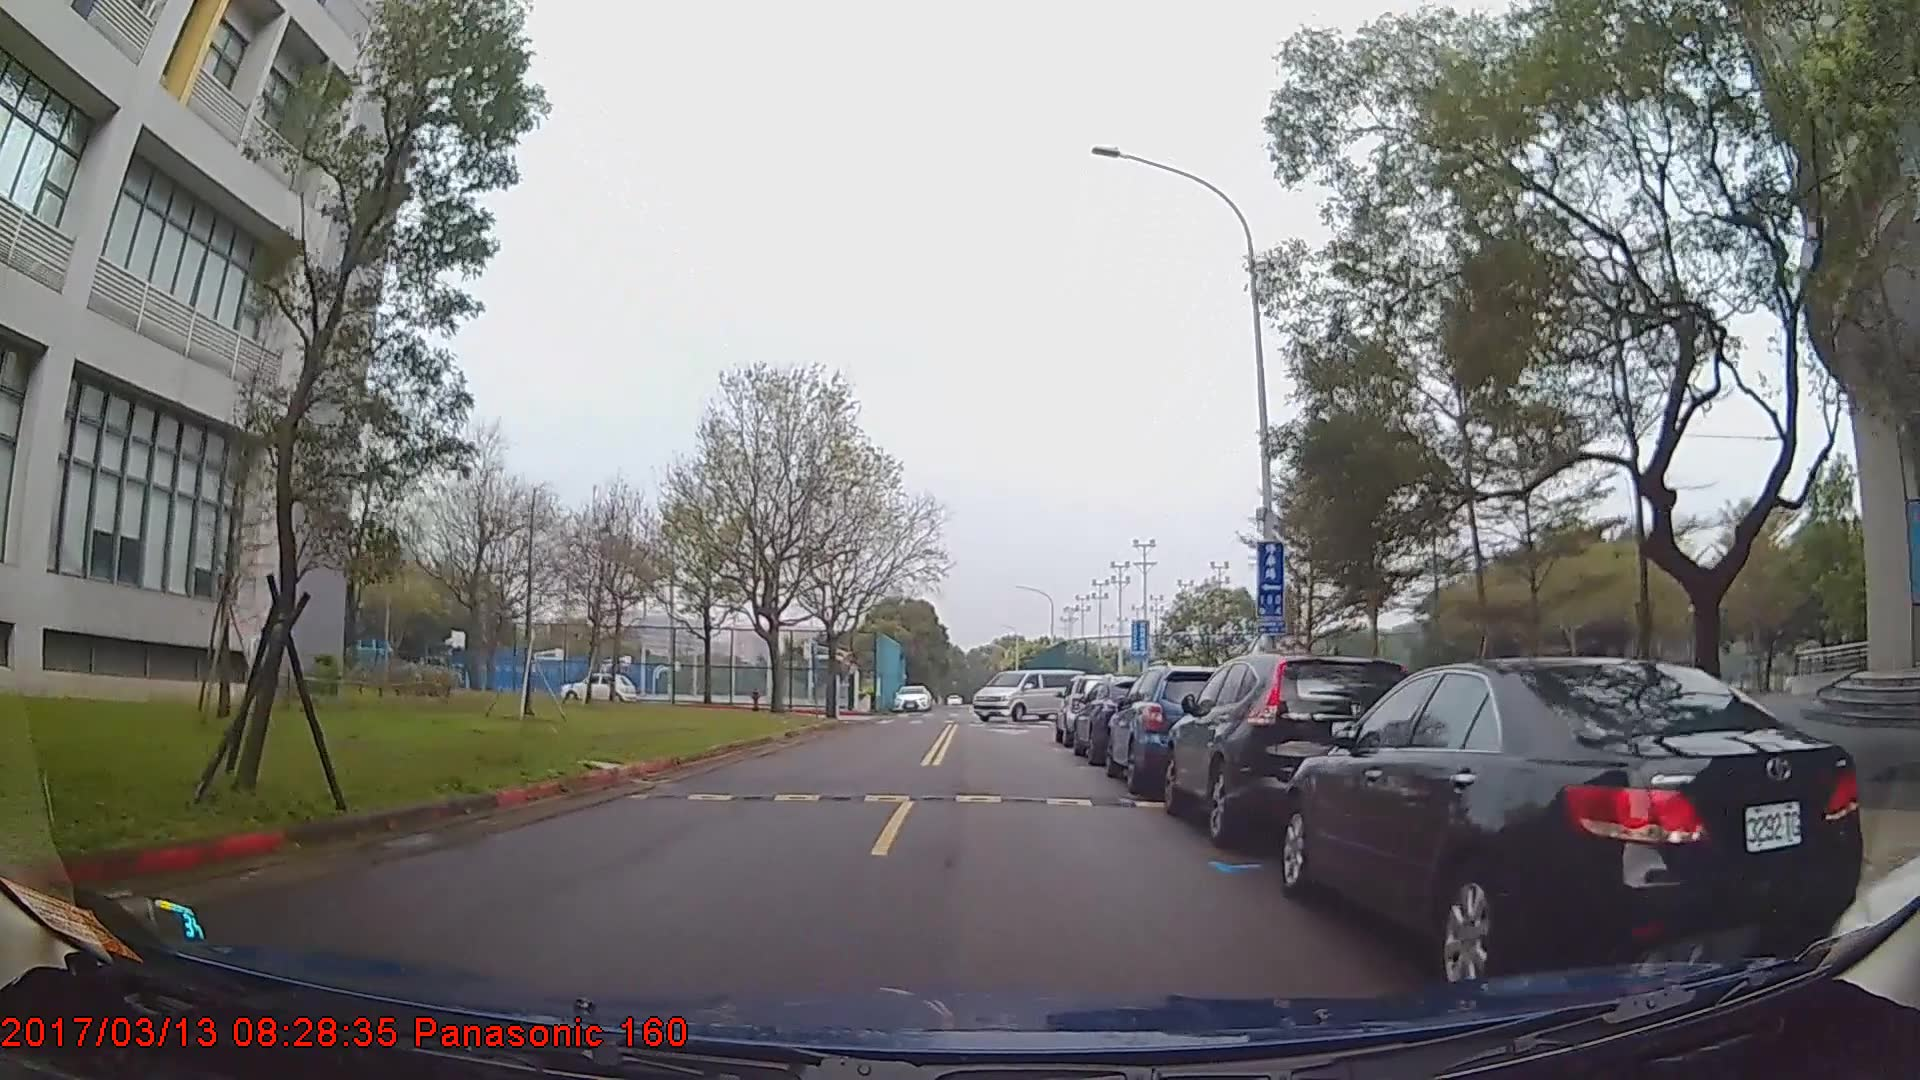vehicle: (1279, 654, 1862, 1001), (1160, 649, 1418, 847), (1105, 663, 1240, 793), (975, 667, 1087, 720), (558, 671, 638, 704), (891, 683, 934, 712)
